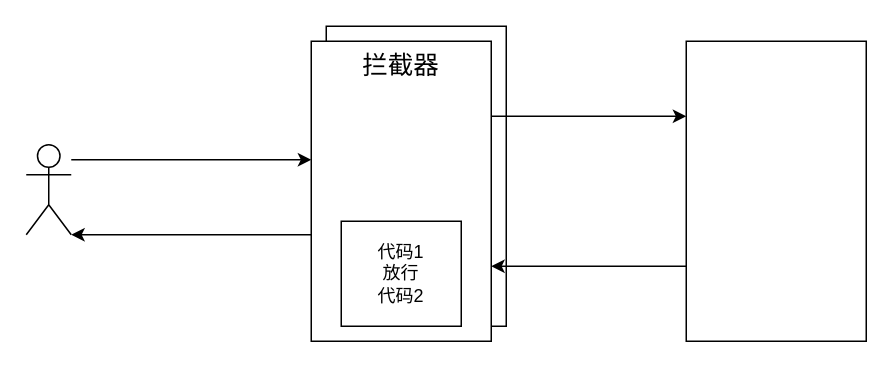
This 893x368 diagram has some shape labels left out. Here are the shapes that lost their labels. From the top down, the centre of each, then its label:
(x=48, y=189): Actor
(x=775, y=190): controller
